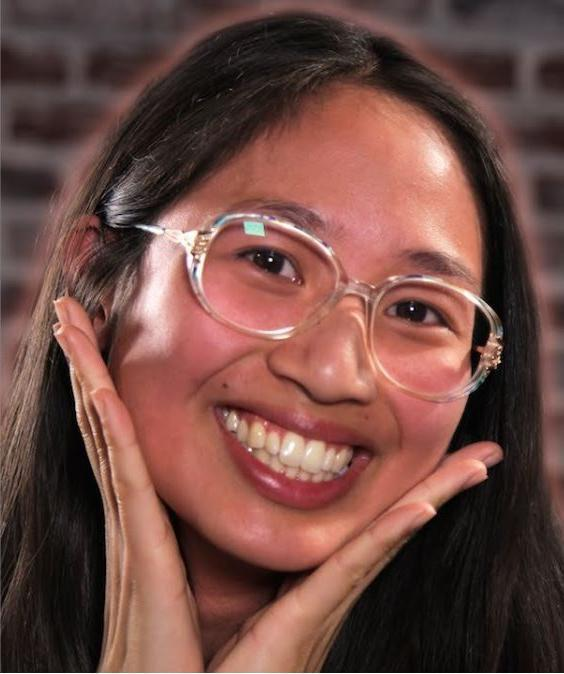Drunk: (176, 130, 467, 549)
